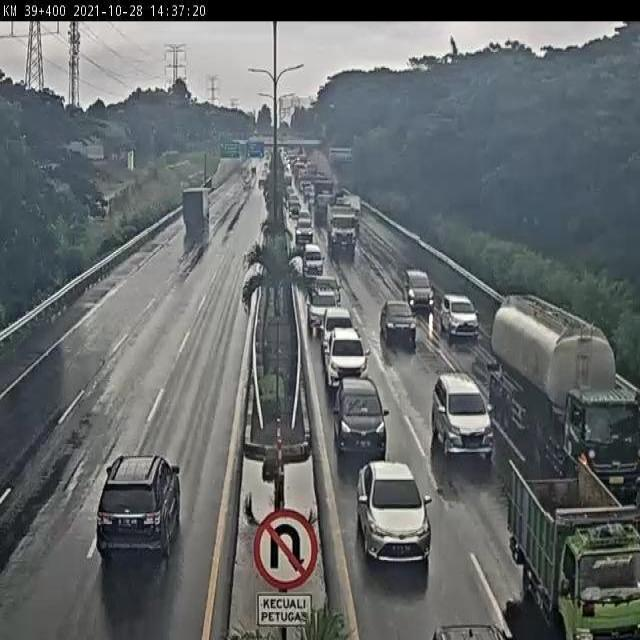ARABA: (97, 456, 179, 559), (354, 457, 434, 560), (435, 373, 492, 456), (332, 373, 390, 451), (322, 323, 373, 393), (380, 301, 419, 351), (437, 292, 476, 339), (402, 268, 436, 313), (319, 304, 354, 347), (304, 284, 337, 324), (315, 273, 344, 308), (301, 241, 325, 276), (292, 211, 315, 237)
KAMYONET: (507, 450, 640, 640)
TIR: (494, 292, 640, 508), (182, 185, 215, 231), (329, 204, 357, 253)
